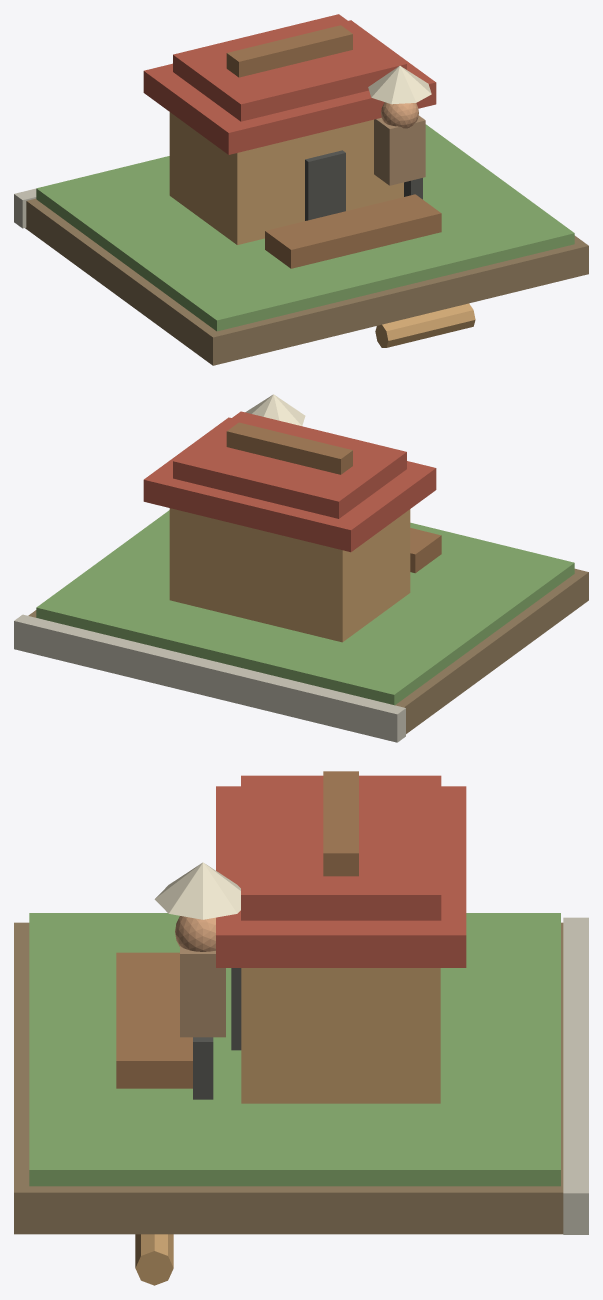
File: 03_O_XuongMoc.glb
The picture shows the model from 3 angles, top to bottom: view 1: azimuth 30°, elevation 25°; view 2: azimuth 150°, elevation 25°; view 3: azimuth 270°, elevation 25°; orthographic projection. The views are drawn at different scales.
Visible parts, largest first — view 1: grass, soil, house, roof2, roof, bench, ridge, body, door, timber, hat, head (+1 smaller); view 2: grass, house, border, roof2, roof, soil, ridge, bench, hat; view 3: grass, soil, house, roof2, roof, bench, border, body, ridge, hat, timber, leg (+2 smaller).
Boxes of the visible parts, <box> form: grass: <box>36,124,574,331</box>; soil: <box>25,198,588,365</box>; house: <box>169,112,403,244</box>; roof2: <box>173,14,406,121</box>; roof: <box>143,20,436,154</box>; bench: <box>265,194,441,268</box>; ridge: <box>226,25,352,77</box>; body: <box>374,115,425,185</box>; door: <box>305,150,345,220</box>; timber: <box>375,303,475,347</box>; hat: <box>368,66,431,104</box>; head: <box>381,102,418,128</box>; grass: <box>36,510,574,705</box>; house: <box>169,508,410,642</box>; border: <box>14,614,405,742</box>; roof2: <box>173,411,406,518</box>; roof: <box>143,417,436,552</box>; soil: <box>28,568,588,733</box>; ridge: <box>226,422,352,474</box>; bench: <box>410,528,441,573</box>; hat: <box>245,394,305,425</box>; grass: <box>29,913,560,1186</box>; soil: <box>14,922,563,1234</box>; house: <box>241,968,440,1103</box>; roof2: <box>241,775,441,920</box>; roof: <box>216,786,466,967</box>; bench: <box>116,952,192,1088</box>; border: <box>563,917,588,1234</box>; body: <box>180,946,225,1037</box>; ridge: <box>323,771,358,876</box>; hat: <box>154,862,240,919</box>; timber: <box>135,1234,173,1285</box>; leg: <box>193,1037,213,1099</box>.
Bounding box in the file's own units: 2.55 × 1.69 × 2.25.
